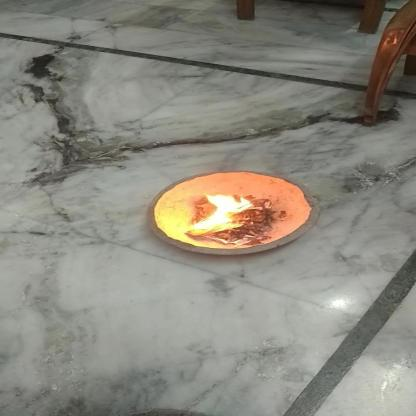fire: (194, 190, 259, 237)
